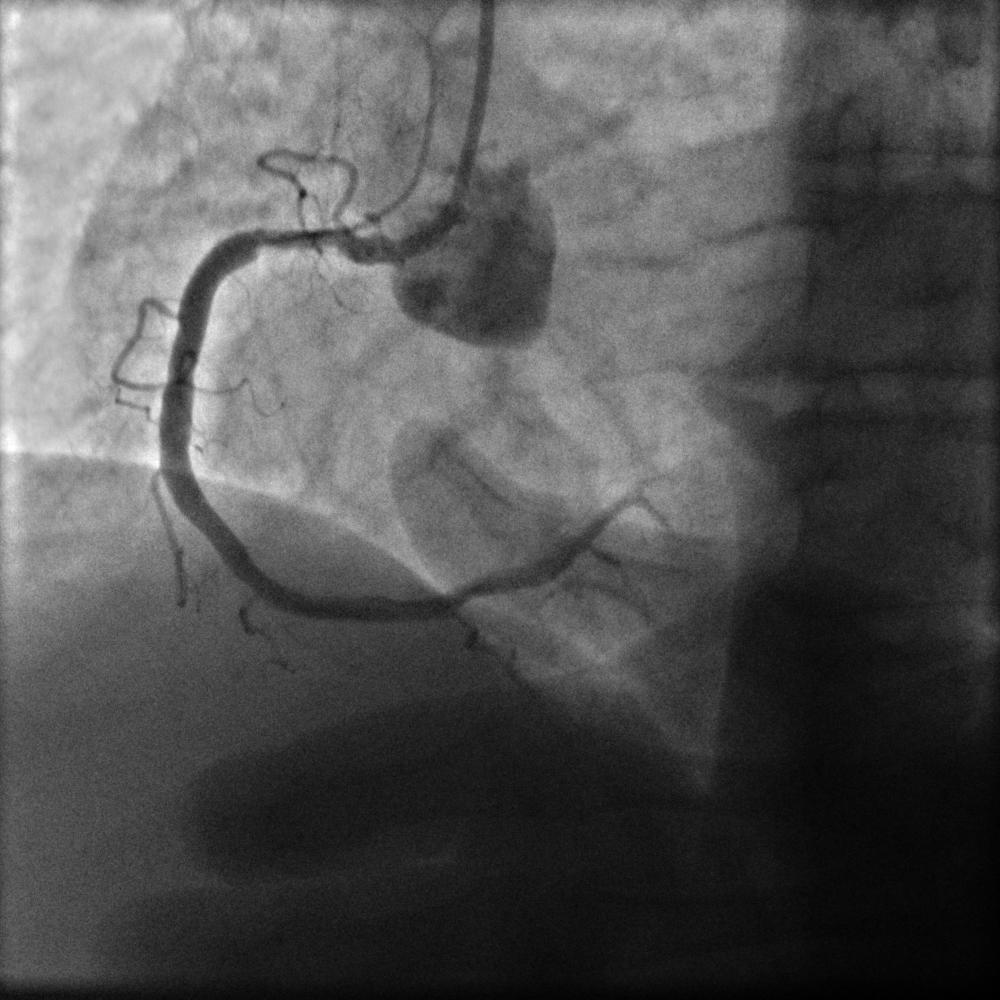Stenosis: (240, 214, 355, 264)
